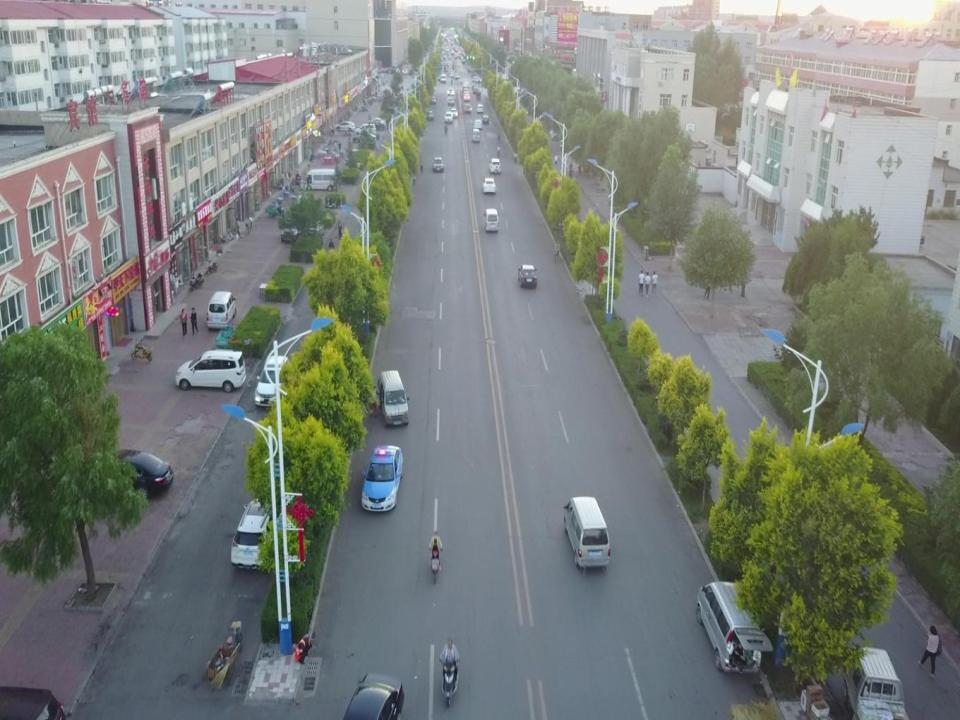car: (231, 487, 289, 572), (90, 448, 175, 499), (562, 495, 610, 570), (341, 671, 404, 720), (361, 445, 403, 512), (281, 217, 302, 241), (518, 264, 537, 288), (306, 218, 324, 238), (560, 138, 580, 150), (354, 133, 376, 142), (483, 178, 495, 194), (334, 121, 355, 130), (489, 159, 501, 174), (368, 118, 387, 127), (432, 157, 444, 171), (366, 121, 384, 130), (444, 112, 452, 123), (474, 119, 482, 129), (450, 108, 458, 118), (426, 110, 434, 120), (463, 104, 472, 112), (482, 115, 489, 124), (477, 104, 483, 113), (430, 96, 436, 104), (464, 94, 470, 101), (448, 98, 454, 105), (473, 88, 478, 93)
truck: (843, 646, 909, 720), (550, 126, 570, 139), (447, 88, 455, 100), (463, 89, 469, 95)
van: (696, 581, 773, 672), (174, 347, 247, 391), (1, 683, 64, 720), (254, 352, 289, 406), (378, 370, 410, 427), (207, 290, 236, 329), (301, 170, 337, 191), (484, 209, 498, 231), (355, 124, 376, 135), (472, 128, 480, 142)
